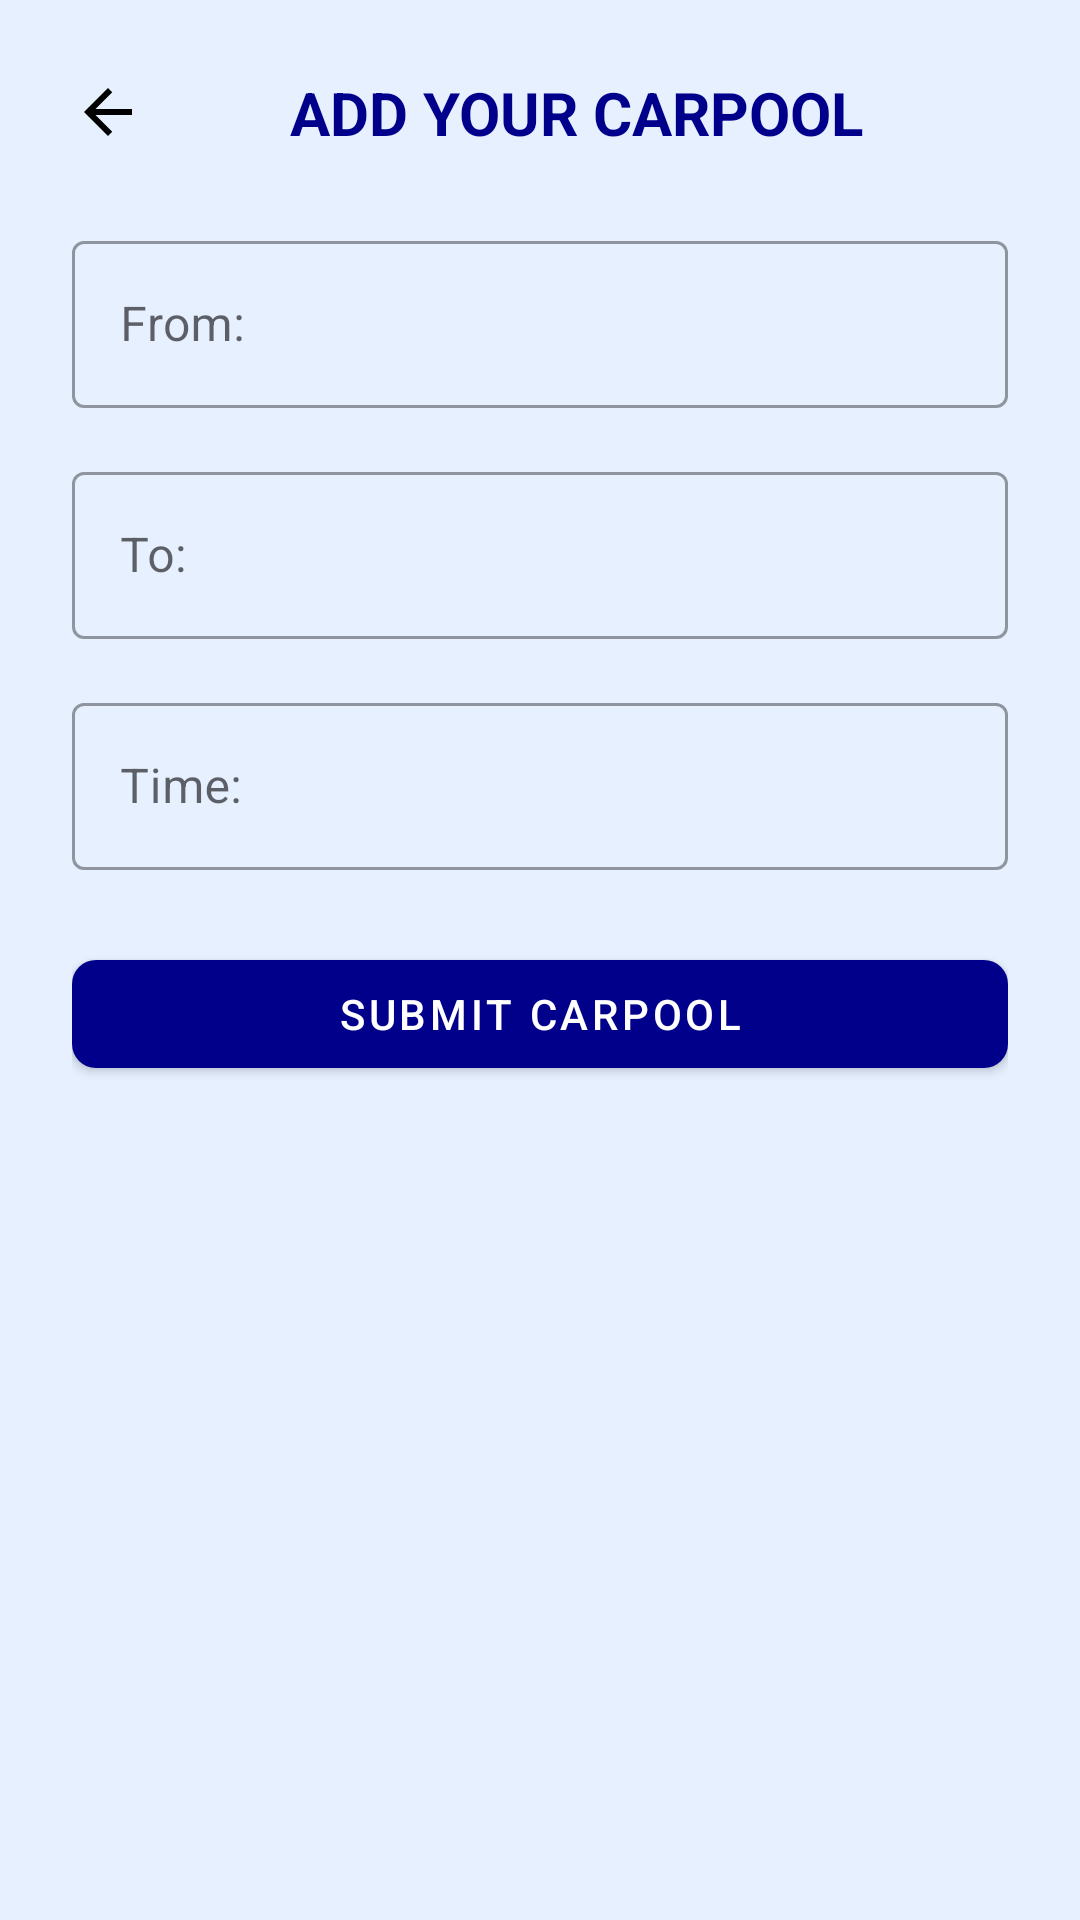

Locate icon controls on the screen. Image size 1080 × 1920, boxes as [x1, y1, x2, y2].
back: [84, 88, 132, 136]
